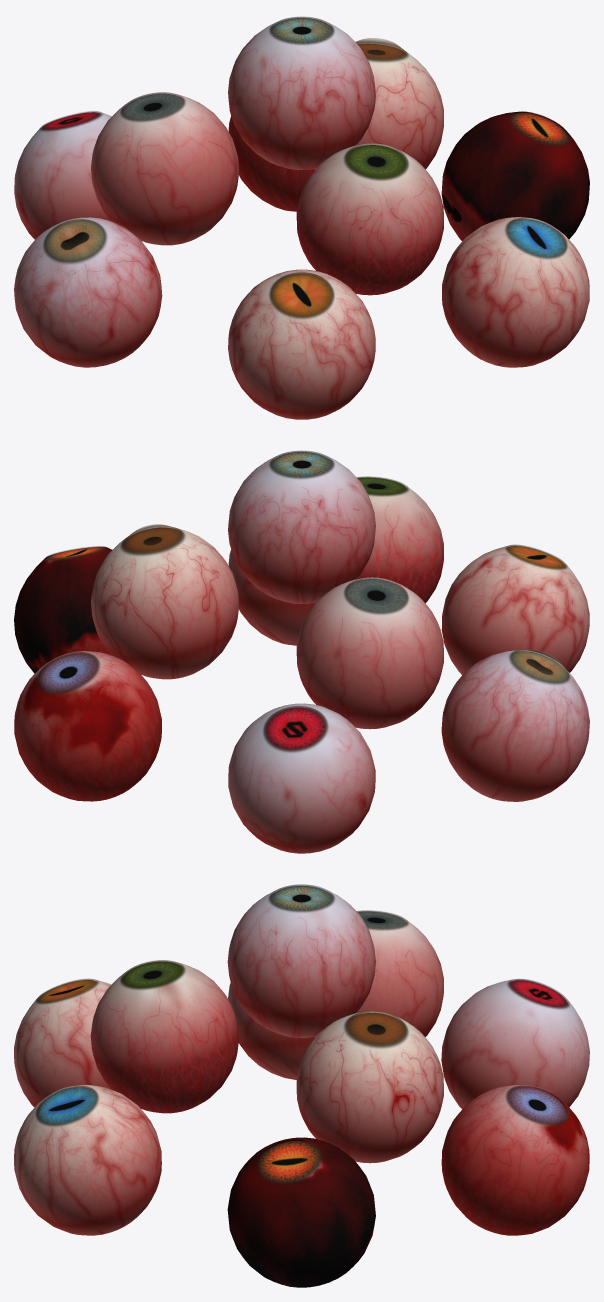
The picture shows the model from 3 angles, top to bottom: view 1: azimuth 30°, elevation 25°; view 2: azimuth 150°, elevation 25°; view 3: azimuth 270°, elevation 25°; orthographic projection.
Parts seen in each view (by area): view 1: Eye_A.003, Eye_A.005, Eye, Eye_A.006, Eye_A.004, Eye_A.001, Eye_A.008, Eye_A.009, Eye_A.002, Eye_A.007; view 2: Eye_A.006, Eye_A.002, Eye_A.007, Eye, Eye_A.009, Eye_A.003, Eye_A.004, Eye_A.008, Eye_A.001, Eye_A.005; view 3: Eye_A.001, Eye_A.007, Eye_A.005, Eye, Eye_A.008, Eye_A.002, Eye_A.009, Eye_A.004, Eye_A.003, Eye_A.006.
Boxes of the visible parts, x1,y1,x2,y2 form: Eye_A.003: (91,92,239,245); Eye_A.005: (442,217,589,367); Eye: (228,16,375,169); Eye_A.006: (14,217,162,367); Eye_A.004: (228,269,375,419); Eye_A.001: (296,143,443,295); Eye_A.008: (441,111,589,241); Eye_A.009: (14,111,111,239); Eye_A.002: (314,38,443,169); Eye_A.007: (228,116,314,211); Eye_A.006: (441,649,589,801); Eye_A.002: (91,524,239,679); Eye_A.007: (14,651,161,801); Eye: (228,450,375,603); Eye_A.009: (228,703,375,853); Eye_A.003: (296,577,443,729); Eye_A.004: (441,544,589,674); Eye_A.008: (14,546,112,673); Eye_A.001: (314,476,443,603); Eye_A.005: (228,549,314,645); Eye_A.001: (90,960,238,1113); Eye_A.007: (441,1085,589,1235); Eye_A.005: (14,1085,161,1235); Eye: (227,884,375,1037); Eye_A.008: (227,1137,375,1287); Eye_A.002: (296,1011,443,1163); Eye_A.009: (441,979,589,1109); Eye_A.004: (14,978,111,1107); Eye_A.003: (314,910,443,1037); Eye_A.006: (228,983,314,1079).
Size of the model in its own units: 822 by 411 by 738.
20 materials, 20 textured.
